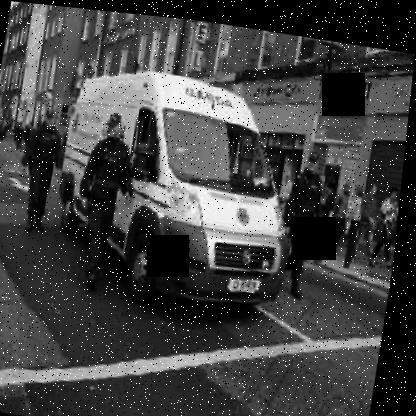emergency: (43, 50, 316, 327)
